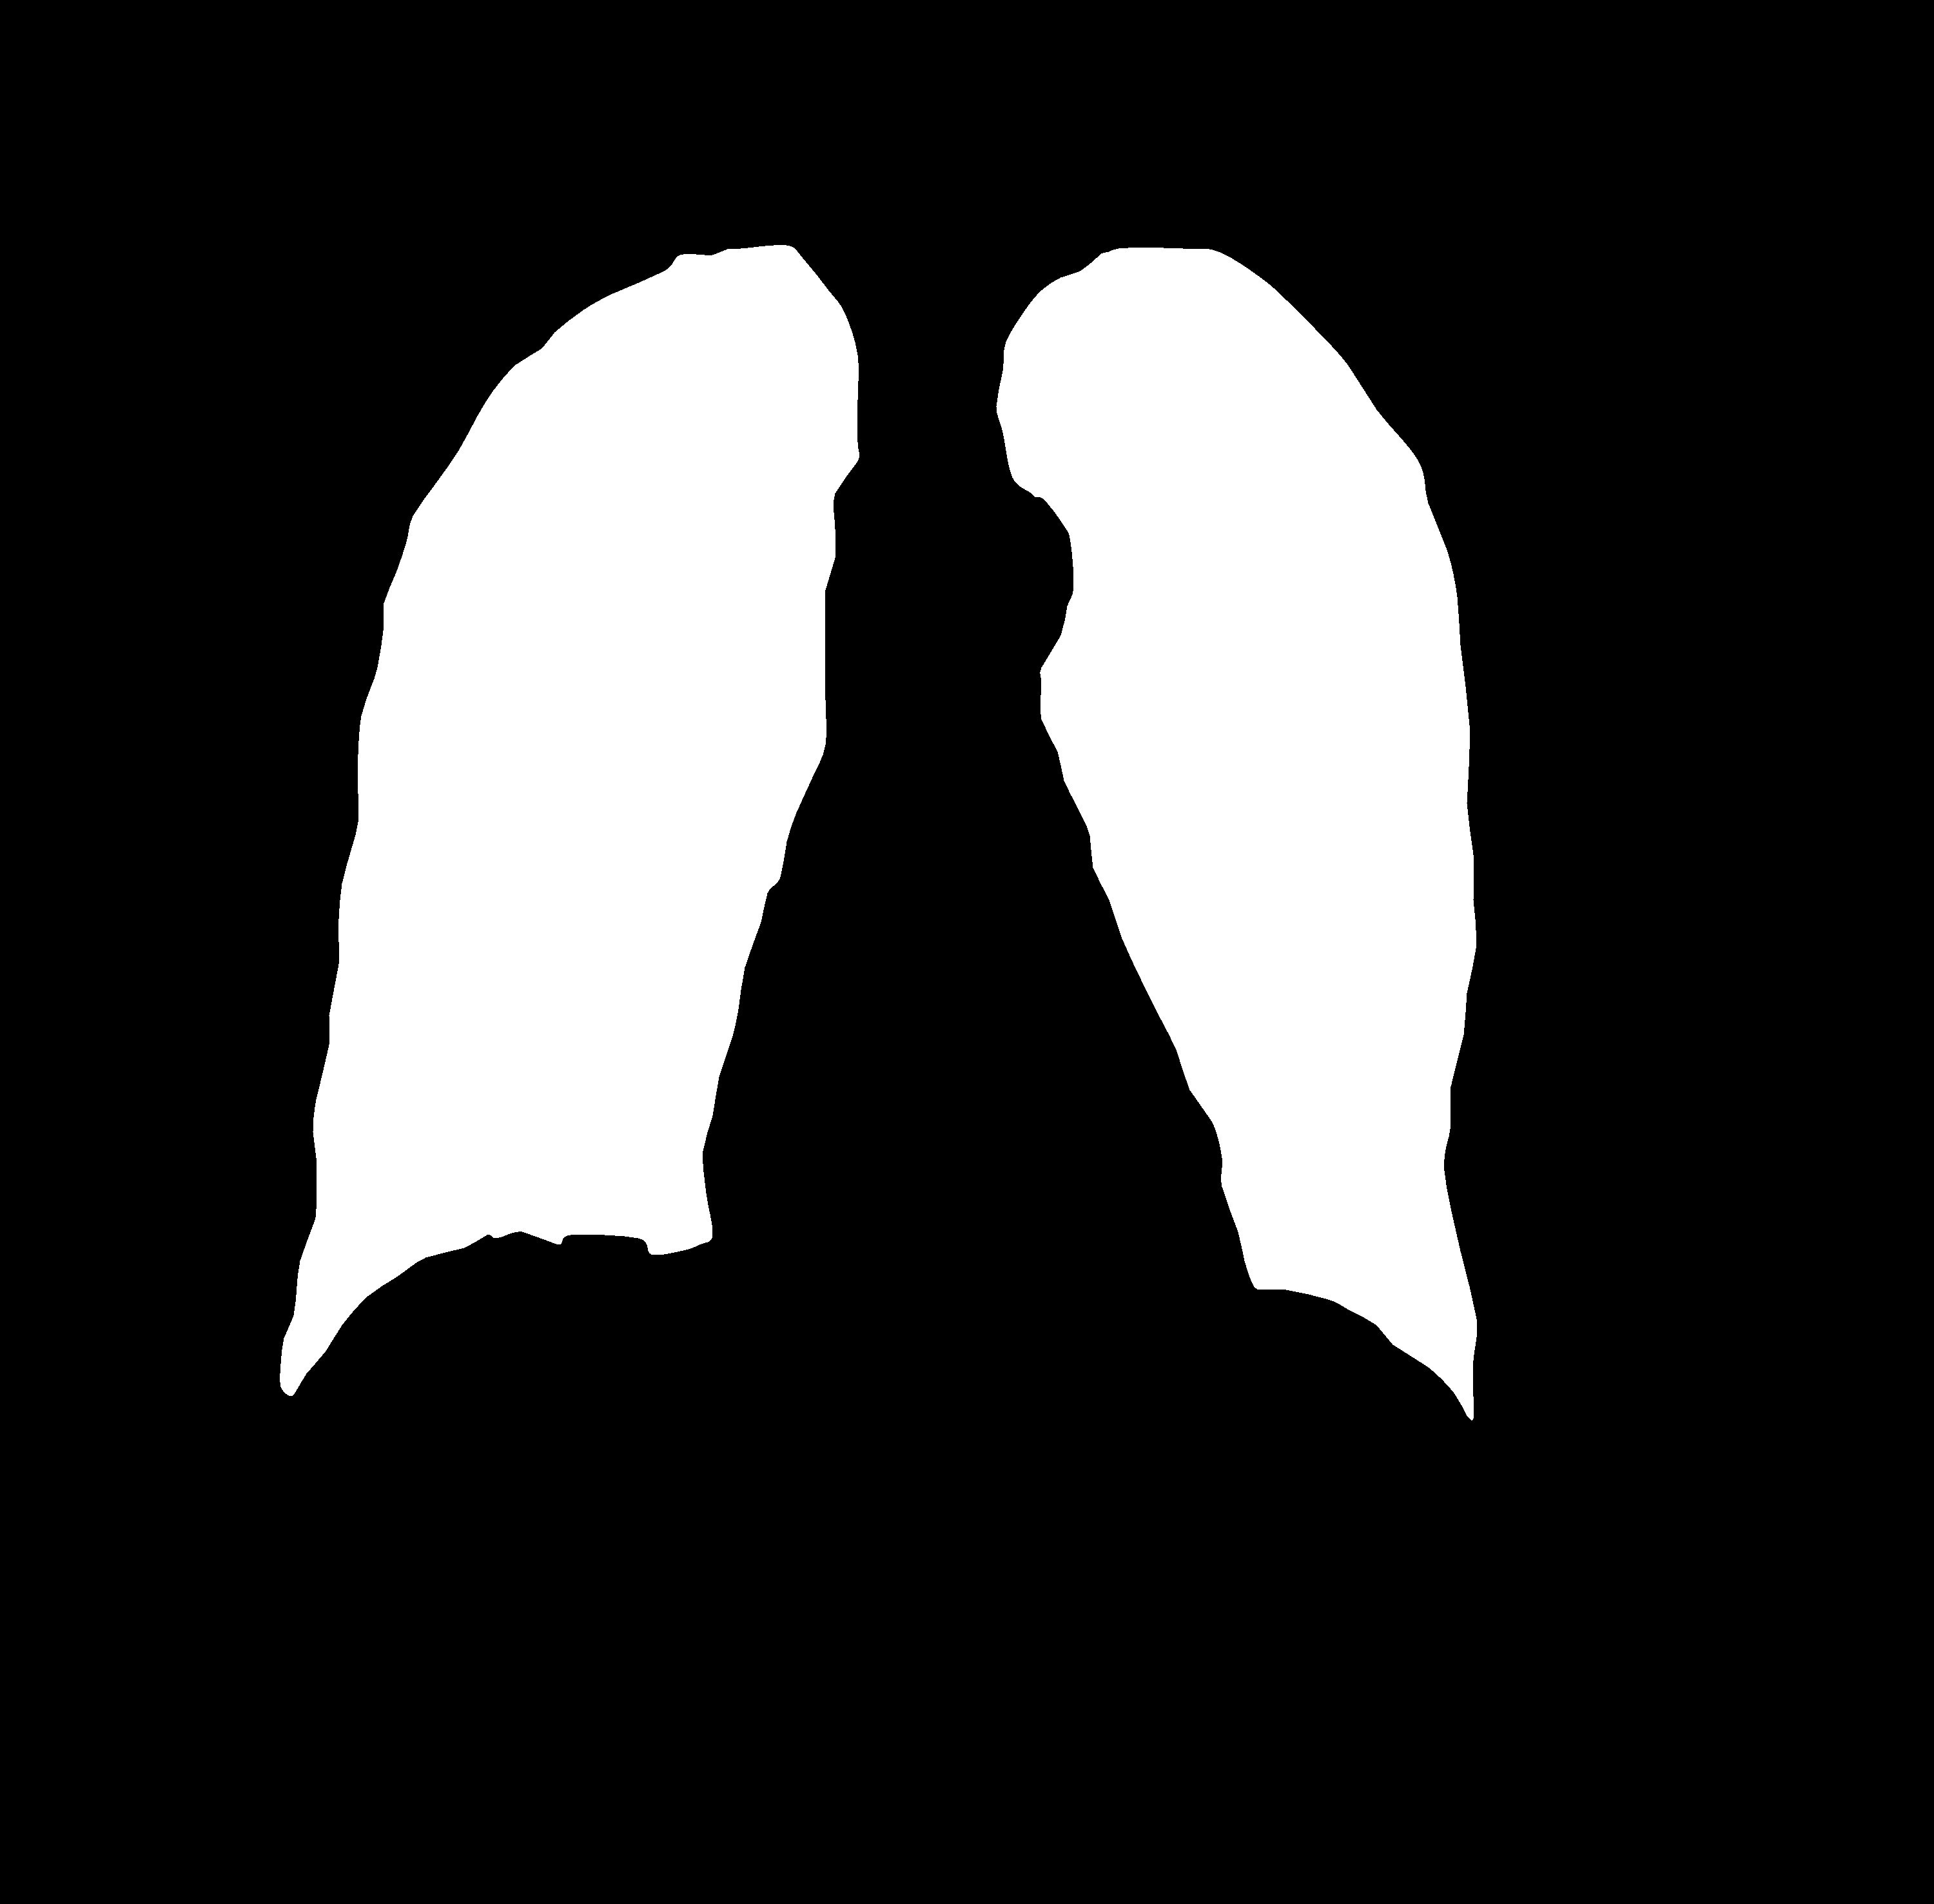heart: (705, 931, 1252, 1353)
left_lung: (279, 246, 858, 1395)
right_lung: (996, 248, 1477, 1421)
